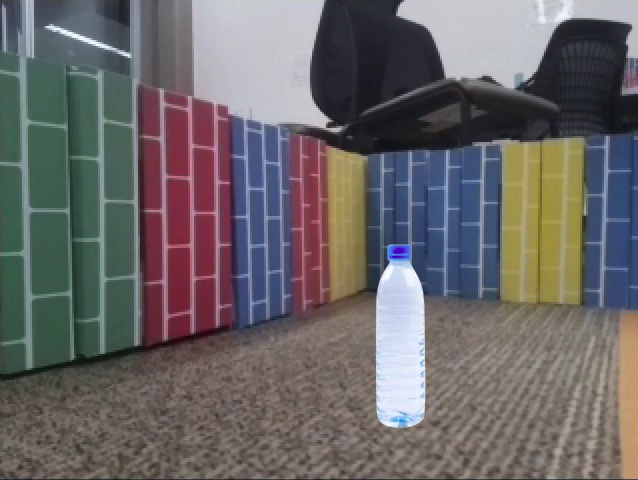pen: (455, 261, 477, 408)
